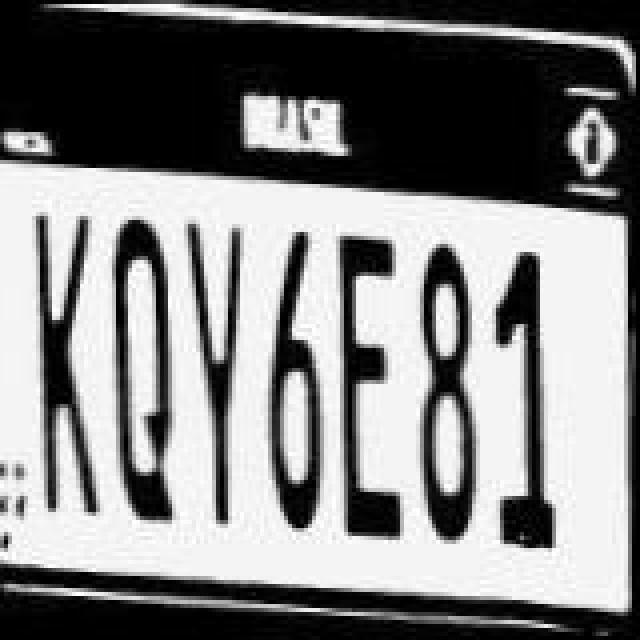1: (486, 248, 566, 552)
6: (258, 218, 334, 534)
8: (414, 240, 486, 548)
E: (334, 222, 414, 546)
K: (30, 212, 106, 516)
Q: (106, 214, 182, 526)
Y: (180, 224, 252, 532)
